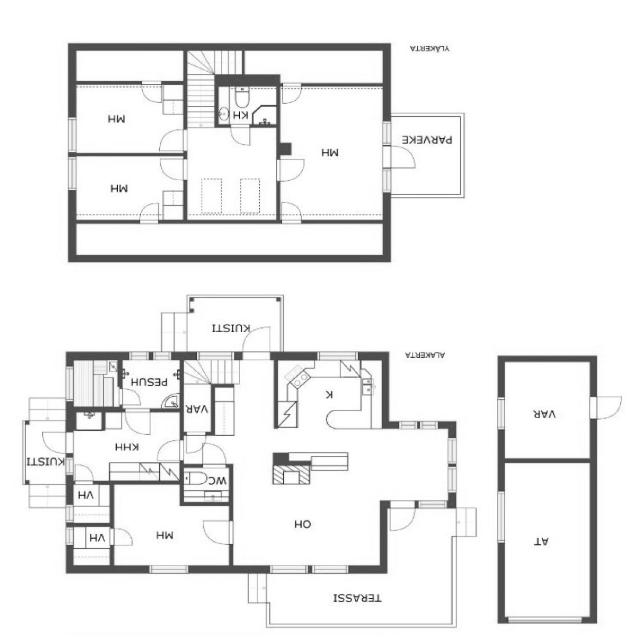door: (238, 324, 274, 361), (118, 386, 149, 428), (586, 392, 628, 422), (386, 499, 419, 534), (380, 143, 421, 171), (199, 517, 236, 547), (122, 406, 154, 438), (39, 428, 75, 456), (274, 156, 309, 184), (158, 156, 189, 182), (156, 127, 188, 152), (156, 437, 184, 464), (201, 442, 229, 469), (140, 80, 166, 105), (182, 431, 207, 456), (108, 526, 136, 548), (116, 386, 144, 408), (279, 200, 304, 224), (228, 124, 252, 148), (279, 82, 304, 105), (137, 201, 162, 223), (72, 462, 96, 484)
window: (64, 358, 120, 410), (505, 612, 585, 627), (443, 436, 461, 496), (392, 416, 444, 434), (494, 489, 508, 545), (312, 348, 364, 362), (122, 348, 172, 362), (144, 562, 192, 576), (265, 562, 312, 576), (193, 348, 239, 362), (64, 115, 80, 154), (308, 562, 352, 576), (62, 363, 76, 404), (494, 395, 508, 433), (65, 154, 79, 192), (414, 498, 451, 512), (444, 464, 460, 496), (380, 118, 392, 148), (380, 168, 392, 195), (63, 525, 75, 548), (63, 502, 75, 524), (65, 456, 75, 479)
zone: (498, 456, 594, 620), (236, 464, 380, 569), (279, 84, 387, 222), (274, 357, 383, 454), (110, 485, 234, 570), (500, 359, 594, 461), (67, 410, 189, 484), (186, 126, 278, 222), (71, 83, 187, 155), (70, 158, 188, 221), (76, 49, 192, 82), (120, 358, 181, 411), (216, 84, 278, 127), (69, 358, 119, 409), (181, 358, 213, 436), (69, 524, 113, 568), (182, 466, 232, 504), (68, 482, 112, 525)
